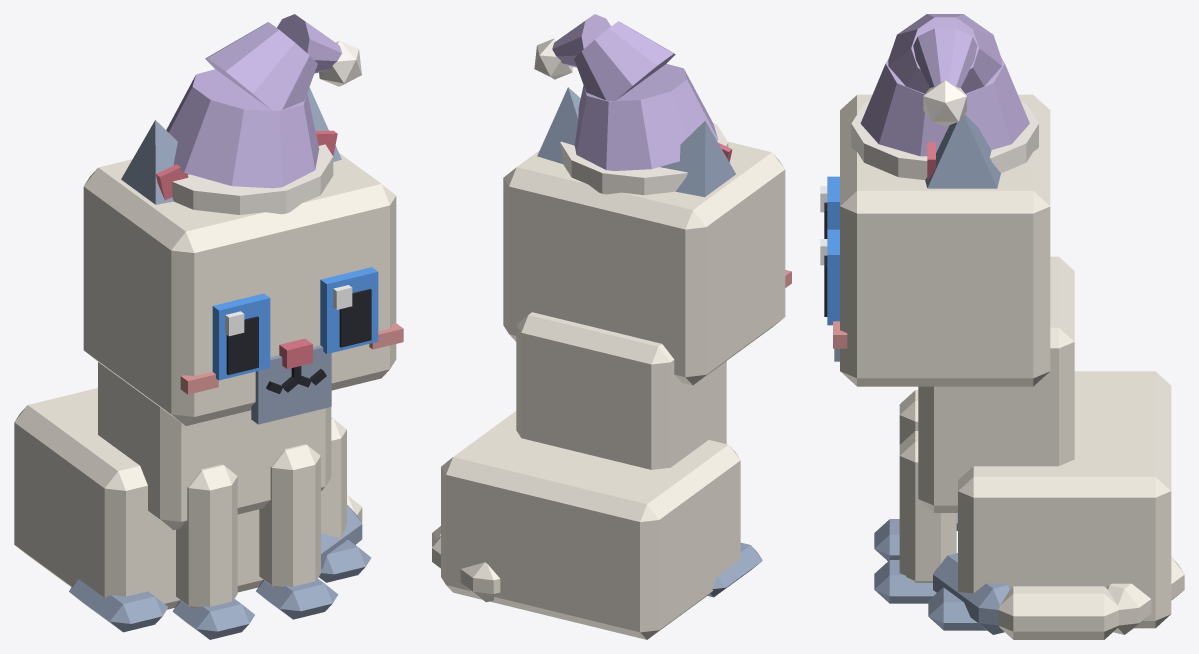
The model's file is CatCafe_Cat_Ragdoll_Sit.glb.
3 renders of one model, left to right at view 1: azimuth 30°, elevation 25°; view 2: azimuth 150°, elevation 25°; view 3: azimuth 270°, elevation 25°, orthographic. The views are drawn at different scales.
Parts seen in each view (by area): view 1: CatCafe_Cat_Ragdoll_Sit_Head, CatCafe_Cat_Ragdoll_Sit_Body, CatCafe_Cat_Ragdoll_Sit_Prop, CatCafe_Cat_Ragdoll_Sit_LegF2, CatCafe_Cat_Ragdoll_Sit_LegF1, CatCafe_Cat_Ragdoll_Sit_Eye1, CatCafe_Cat_Ragdoll_Sit_Eye2, CatCafe_Cat_Ragdoll_Sit_EarR, CatCafe_Cat_Ragdoll_Sit_Tail, CatCafe_Cat_Ragdoll_Sit_EarL; view 2: CatCafe_Cat_Ragdoll_Sit_Body, CatCafe_Cat_Ragdoll_Sit_Head, CatCafe_Cat_Ragdoll_Sit_Prop, CatCafe_Cat_Ragdoll_Sit_EarR, CatCafe_Cat_Ragdoll_Sit_EarL, CatCafe_Cat_Ragdoll_Sit_Tail; view 3: CatCafe_Cat_Ragdoll_Sit_Body, CatCafe_Cat_Ragdoll_Sit_Head, CatCafe_Cat_Ragdoll_Sit_Prop, CatCafe_Cat_Ragdoll_Sit_Tail, CatCafe_Cat_Ragdoll_Sit_LegF1, CatCafe_Cat_Ragdoll_Sit_EarL, CatCafe_Cat_Ragdoll_Sit_LegF2, CatCafe_Cat_Ragdoll_Sit_Eye1, CatCafe_Cat_Ragdoll_Sit_Eye2.
Boxes of the visible parts, box(x1,y1,x2,y2) form: CatCafe_Cat_Ragdoll_Sit_Head: box(83, 153, 403, 425); CatCafe_Cat_Ragdoll_Sit_Body: box(14, 362, 371, 632); CatCafe_Cat_Ragdoll_Sit_Prop: box(166, 14, 361, 214); CatCafe_Cat_Ragdoll_Sit_LegF2: box(172, 464, 254, 639); CatCafe_Cat_Ragdoll_Sit_LegF1: box(256, 444, 338, 619); CatCafe_Cat_Ragdoll_Sit_Eye1: box(320, 267, 378, 353); CatCafe_Cat_Ragdoll_Sit_Eye2: box(212, 293, 270, 380); CatCafe_Cat_Ragdoll_Sit_EarR: box(121, 120, 189, 204); CatCafe_Cat_Ragdoll_Sit_Tail: box(321, 495, 362, 569); CatCafe_Cat_Ragdoll_Sit_EarL: box(307, 87, 341, 161); CatCafe_Cat_Ragdoll_Sit_Body: box(441, 312, 762, 639); CatCafe_Cat_Ragdoll_Sit_Head: box(503, 141, 791, 385); CatCafe_Cat_Ragdoll_Sit_Prop: box(534, 14, 728, 195); CatCafe_Cat_Ragdoll_Sit_EarR: box(660, 121, 735, 197); CatCafe_Cat_Ragdoll_Sit_EarL: box(537, 87, 580, 163); CatCafe_Cat_Ragdoll_Sit_Tail: box(432, 526, 500, 602); CatCafe_Cat_Ragdoll_Sit_Body: box(918, 256, 1171, 630); CatCafe_Cat_Ragdoll_Sit_Head: box(833, 94, 1050, 386); CatCafe_Cat_Ragdoll_Sit_Prop: box(851, 14, 1038, 179); CatCafe_Cat_Ragdoll_Sit_Tail: box(933, 553, 1184, 639); CatCafe_Cat_Ragdoll_Sit_LegF1: box(874, 431, 956, 603); CatCafe_Cat_Ragdoll_Sit_EarL: box(925, 114, 1000, 188); CatCafe_Cat_Ragdoll_Sit_LegF2: box(874, 390, 918, 560); CatCafe_Cat_Ragdoll_Sit_Eye1: box(820, 229, 839, 325); CatCafe_Cat_Ragdoll_Sit_Eye2: box(820, 176, 839, 238).
Size of the model in its own units: 1.34 by 2.55 by 1.46.
Materials: 1 (1 with a texture image).
